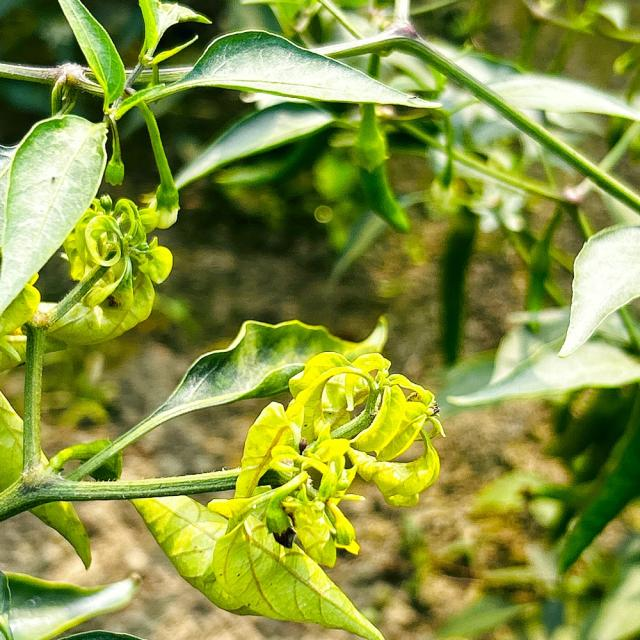Chilli_Leaf_Curl: (1, 1, 447, 638), (127, 345, 445, 637), (66, 315, 390, 481), (127, 491, 386, 639), (115, 26, 443, 118), (0, 112, 109, 316), (43, 192, 174, 346), (556, 222, 639, 358), (0, 569, 143, 638), (56, 0, 127, 112)
